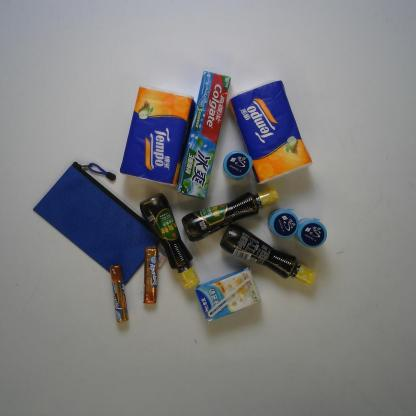Candy: (109, 264, 130, 323), (142, 245, 159, 305)
Gum: (267, 207, 300, 240), (294, 217, 328, 249), (222, 151, 254, 182)
Milk: (195, 265, 262, 322)
Personal Hygiene: (175, 70, 232, 201)
Seasoner: (219, 223, 318, 287), (139, 192, 200, 290), (181, 186, 281, 243)
Stationery: (32, 160, 162, 287)
Tissue: (228, 78, 314, 186), (118, 84, 197, 187)
